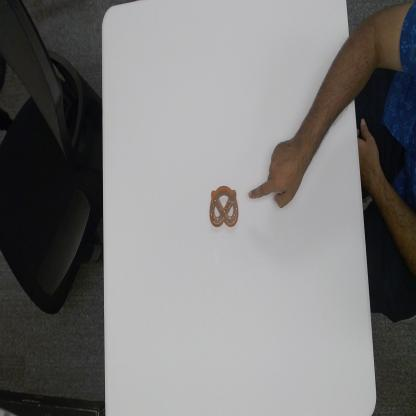Arm: (306, 28, 360, 168)
Hand: (247, 132, 305, 209)
Pretzel: (208, 184, 241, 229)
